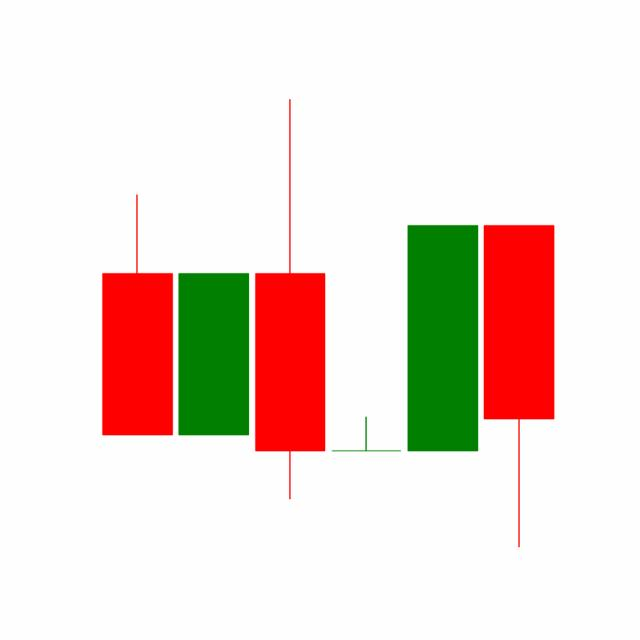Marubozu: (403, 222, 481, 454)
